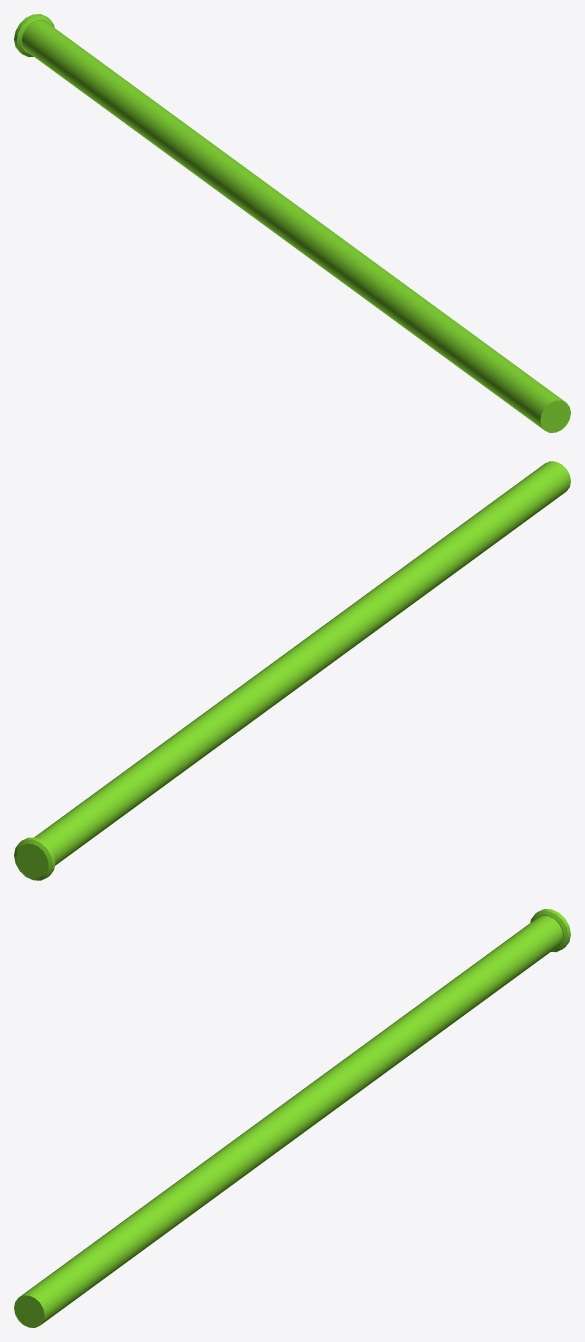
Rendered from Pipe_07_Lod0.fbx.
3 views of the same model, one above another, from view 1: azimuth 30°, elevation 25°; view 2: azimuth 150°, elevation 25°; view 3: azimuth 330°, elevation 25° (orthographic).
Parts seen in each view (by area): view 1: Pipe_07_Lod0; view 2: Pipe_07_Lod0; view 3: Pipe_07_Lod0.
Part boxes in pixels (bbox=[...]): Pipe_07_Lod0: bbox=[14, 14, 570, 432]; Pipe_07_Lod0: bbox=[14, 461, 570, 880]; Pipe_07_Lod0: bbox=[14, 909, 570, 1327].
Size of the model in its own units: 313 by 313 by 7290.
